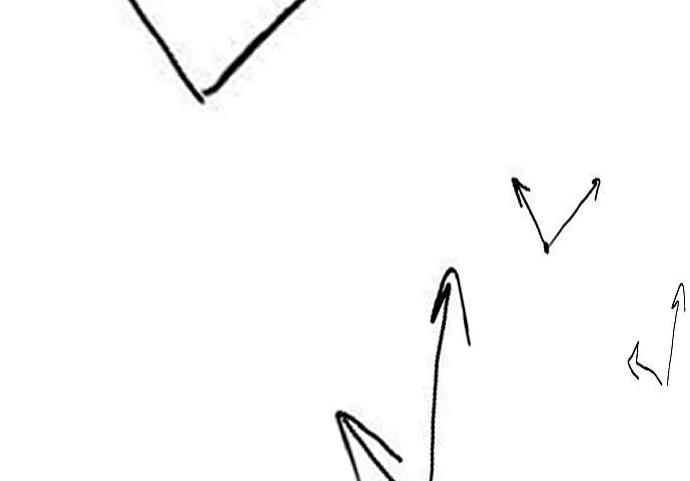arrow: (424, 265, 468, 475), (550, 176, 599, 250), (513, 179, 544, 246), (667, 284, 687, 383), (626, 340, 664, 386)
arrownohead: (210, 1, 306, 97), (127, 1, 203, 106)
